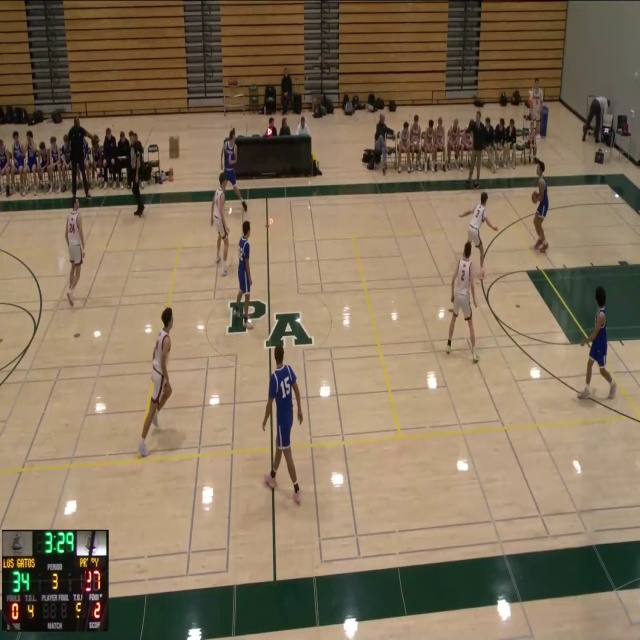Basketball: (531, 191, 539, 203)
